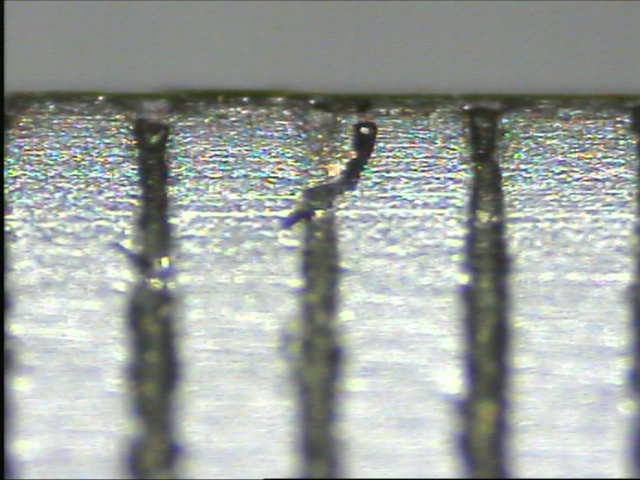line: (453, 107, 515, 477), (121, 111, 181, 478), (292, 103, 347, 478)
